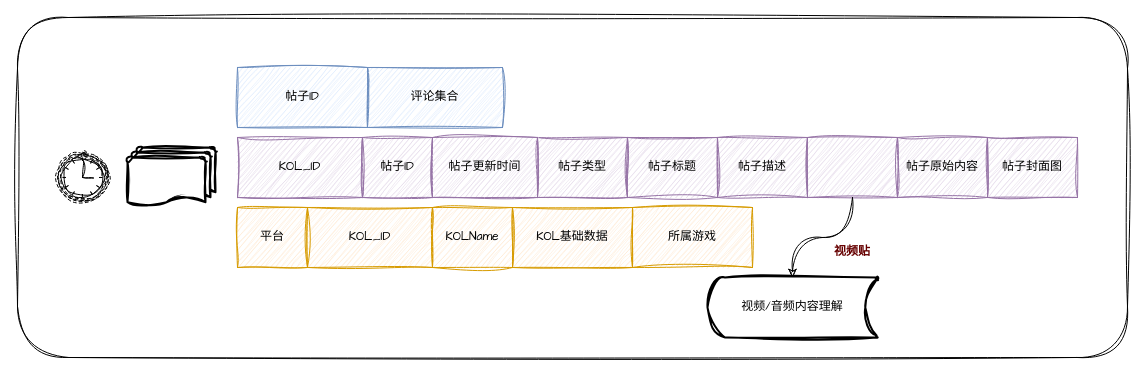
Image size: 1145x375. Some labels were removed from this diagram. The shapes that lost their labels are listed below. From the top down, each one's box as (x1, y1, x2, y2) in pixels, then its label:
(126, 146, 216, 208): 数据爬取
(806, 136, 898, 198): 帖子文本内容
